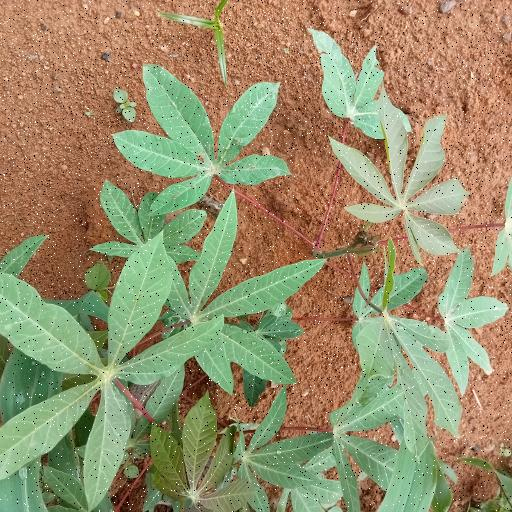Cassava_Mosaic: (117, 62, 283, 210), (331, 105, 464, 253), (150, 394, 253, 512)
